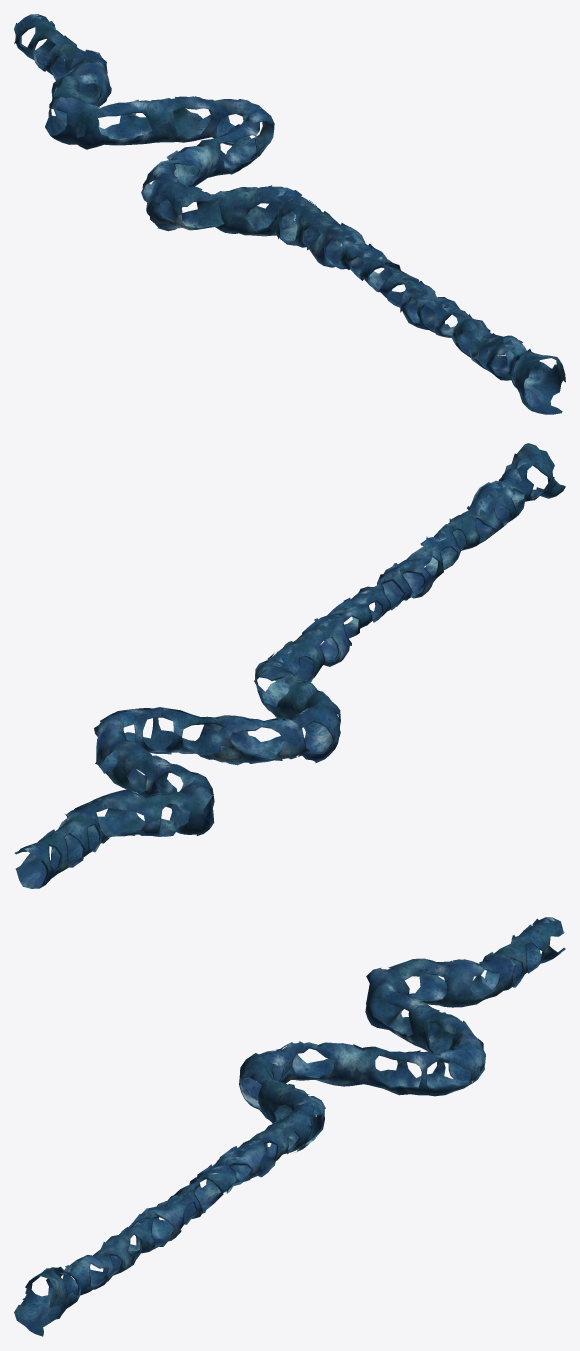
File: stage6.fbx
3 views of the same model, one above another, from view 1: azimuth 30°, elevation 25°; view 2: azimuth 150°, elevation 25°; view 3: azimuth 330°, elevation 25° (orthographic). The views are drawn at different scales.
Parts seen in each view (by area): view 1: stage6; view 2: stage6; view 3: stage6.
Part boxes in pixels (x1=…): stage6: x1=14, y1=14, x2=565, y2=414; stage6: x1=14, y1=443, x2=565, y2=888; stage6: x1=14, y1=917, x2=565, y2=1336.
Bounding box in the file's own units: 316 × 118 × 1603.
